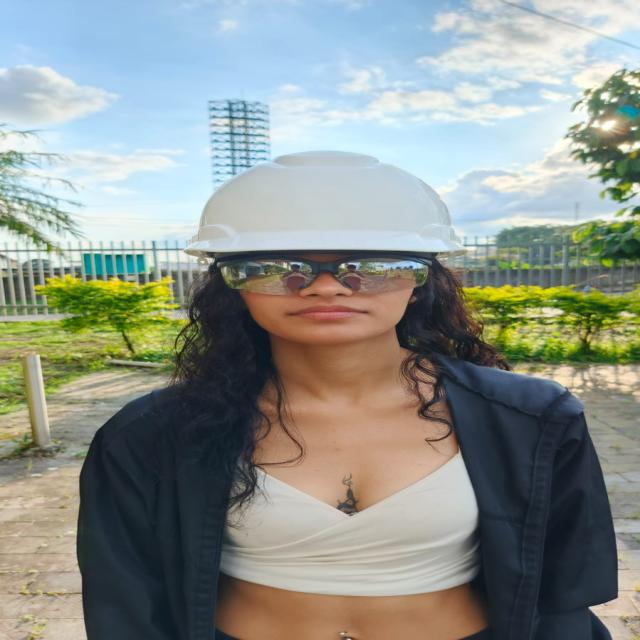helmet: (185, 151, 463, 257)
protective_glasses: (216, 255, 445, 295)
